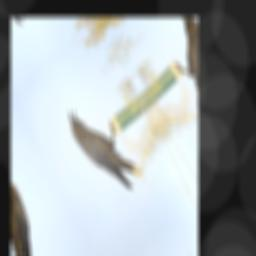Crow: (60, 85, 146, 212)
